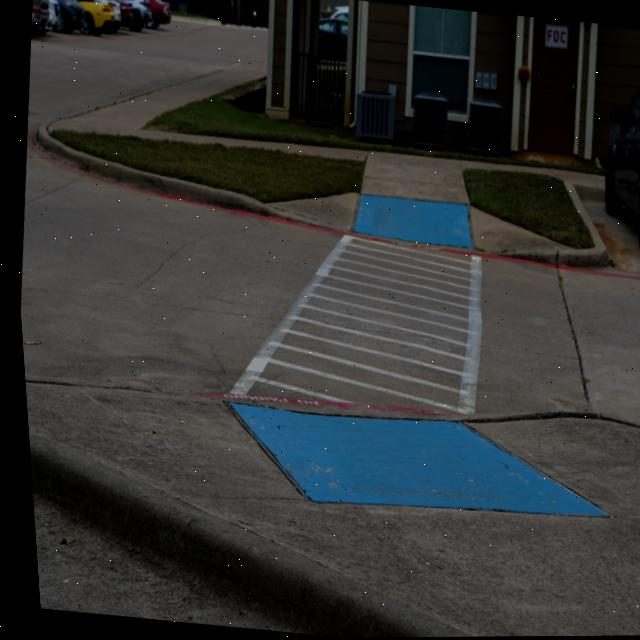Automobile: (602, 87, 640, 252), (315, 10, 347, 60), (76, 0, 120, 34), (48, 0, 83, 33), (118, 0, 154, 30), (144, 0, 170, 27), (30, 0, 49, 33)
Obstacle: (353, 91, 394, 141), (410, 93, 446, 148), (464, 100, 500, 155)
Road: (16, 18, 640, 422), (25, 483, 351, 638)
Sidewalk: (20, 380, 640, 638), (46, 62, 606, 249)
